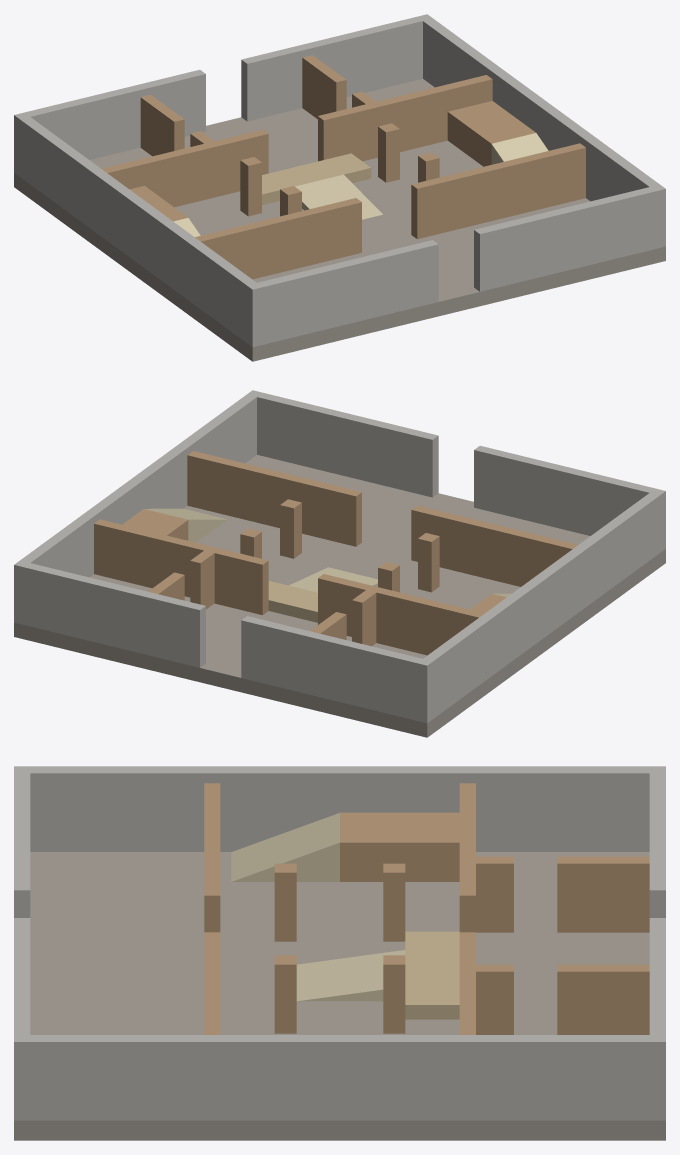
The model's file is level.glb.
3 renders of one model, top to bottom at view 1: azimuth 30°, elevation 25°; view 2: azimuth 150°, elevation 25°; view 3: azimuth 270°, elevation 25°, orthographic. The views are drawn at different scales.
Parts seen in each view (by area): view 1: VIS_Floor, VIS_WallWest, VIS_WallSouthW, VIS_WallSouthE, VIS_WallNorthE, VIS_WallEast, VIS_PartSouthE, VIS_WallNorthW, VIS_PartSouthW, VIS_PartNorthE, VIS_PartNorthW, VIS_GalleryEast (+10 smaller); view 2: VIS_Floor, VIS_WallWest, VIS_WallNorthW, VIS_WallNorthE, VIS_WallSouthE, VIS_WallEast, VIS_WallSouthW, VIS_PartSouthE, VIS_PartNorthE, VIS_PartSouthW, VIS_PartNorthW, VIS_Dais (+11 smaller); view 3: VIS_Floor, VIS_WallEast, VIS_WallWest, VIS_GalleryWest, VIS_RearDivWestN, VIS_RearDivEastN, VIS_StairWest, VIS_Dais, VIS_DaisStep, VIS_RearDivWestS, VIS_RearDivEastS, VIS_WallNorthE (+11 smaller).
Part boxes in pixels (left/top/right/bottom): VIS_Floor: left=14, top=79, right=665, bottom=361; VIS_WallWest: left=14, top=116, right=262, bottom=346; VIS_WallSouthW: left=246, top=240, right=438, bottom=347; VIS_WallSouthE: left=474, top=184, right=665, bottom=291; VIS_WallNorthE: left=241, top=15, right=427, bottom=121; VIS_WallEast: left=418, top=14, right=665, bottom=248; VIS_PartSouthE: left=411, top=143, right=585, bottom=239; VIS_WallNorthW: left=14, top=69, right=205, bottom=176; VIS_PartSouthW: left=195, top=198, right=361, bottom=279; VIS_PartNorthE: left=318, top=75, right=492, bottom=161; VIS_PartNorthW: left=101, top=129, right=268, bottom=207; VIS_GalleryEast: left=447, top=101, right=535, bottom=166; VIS_Floor: left=14, top=455, right=665, bottom=737; VIS_WallWest: left=417, top=489, right=665, bottom=722; VIS_WallNorthW: left=241, top=616, right=433, bottom=723; VIS_WallNorthE: left=14, top=561, right=205, bottom=667; VIS_WallSouthE: left=250, top=391, right=438, bottom=497; VIS_WallEast: left=14, top=390, right=262, bottom=624; VIS_WallSouthW: left=474, top=445, right=665, bottom=552; VIS_PartSouthE: left=187, top=451, right=361, bottom=546; VIS_PartNorthE: left=94, top=519, right=268, bottom=615; VIS_PartSouthW: left=411, top=505, right=578, bottom=586; VIS_PartNorthW: left=318, top=574, right=484, bottom=655; VIS_Dais: left=268, top=581, right=317, bottom=622; VIS_Floor: left=14, top=852, right=665, bottom=1140; VIS_WallEast: left=14, top=1035, right=665, bottom=1120; VIS_WallWest: left=14, top=766, right=665, bottom=851; VIS_GalleryWest: left=340, top=812, right=459, bottom=881; VIS_RearDivWestN: left=557, top=856, right=649, bottom=932; VIS_RearDivEastN: left=557, top=964, right=649, bottom=1034; VIS_StairWest: left=231, top=813, right=339, bottom=881; VIS_Dais: left=405, top=931, right=459, bottom=1019; VIS_DaisStep: left=296, top=950, right=405, bottom=1001; VIS_RearDivWestS: left=476, top=856, right=513, bottom=932; VIS_RearDivEastS: left=476, top=964, right=513, bottom=1034; VIS_WallNorthE: left=649, top=918, right=665, bottom=1120.
Bounding box in the file's own units: 60 × 10 × 60.
